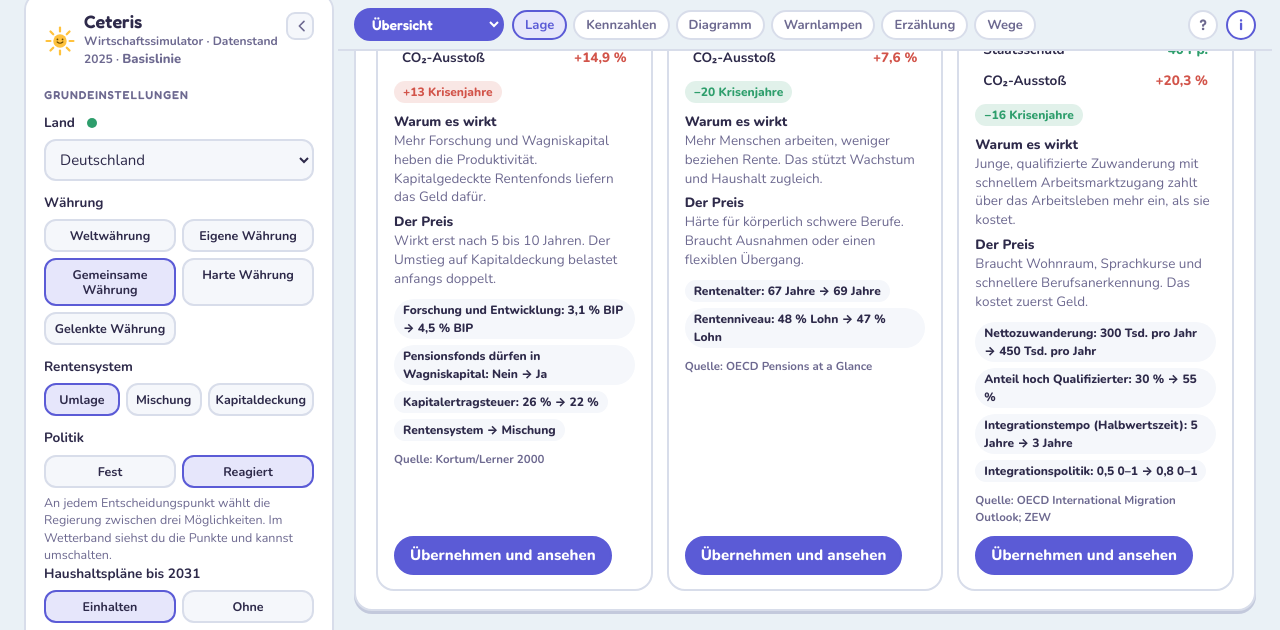
it: Erzählung und Wege › Paket übernehmen und rückgängig machen
(page scrolled)
Click the button "Übernehmen und ansehen" below "Quelle: Kortum/Lerner 2000": (503, 555) [394,536,612,575]
(page scrolled)
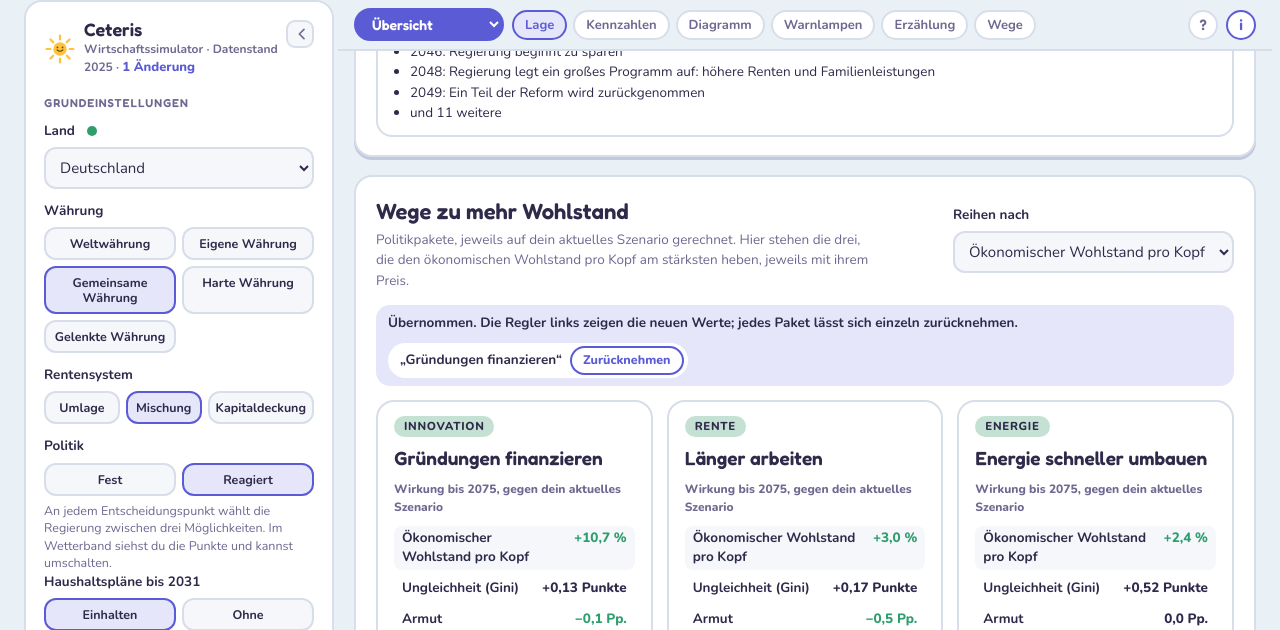
Expected: the text "Basislinie" is not shown
Expected: the element named "Übernommene Pakete" is shown, [376,305,1234,386]
Click the button "Zurücknehmen": (627, 361) [570,346,684,375]
(page scrolled)
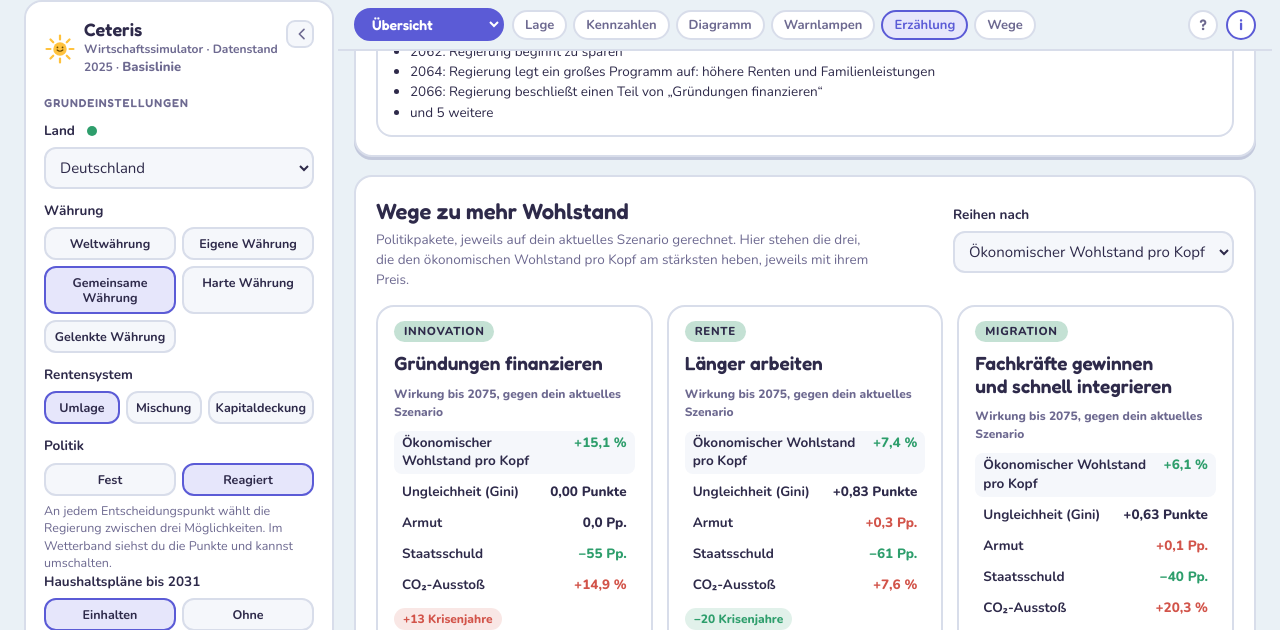
Expected: the text "Basislinie" is shown, [122,58,181,76]
